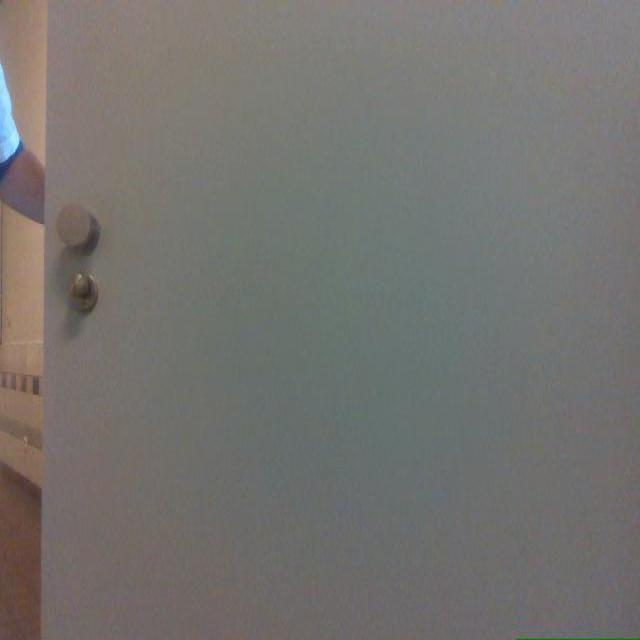humans: (0, 64, 43, 224)
objects: (42, 0, 639, 639)
